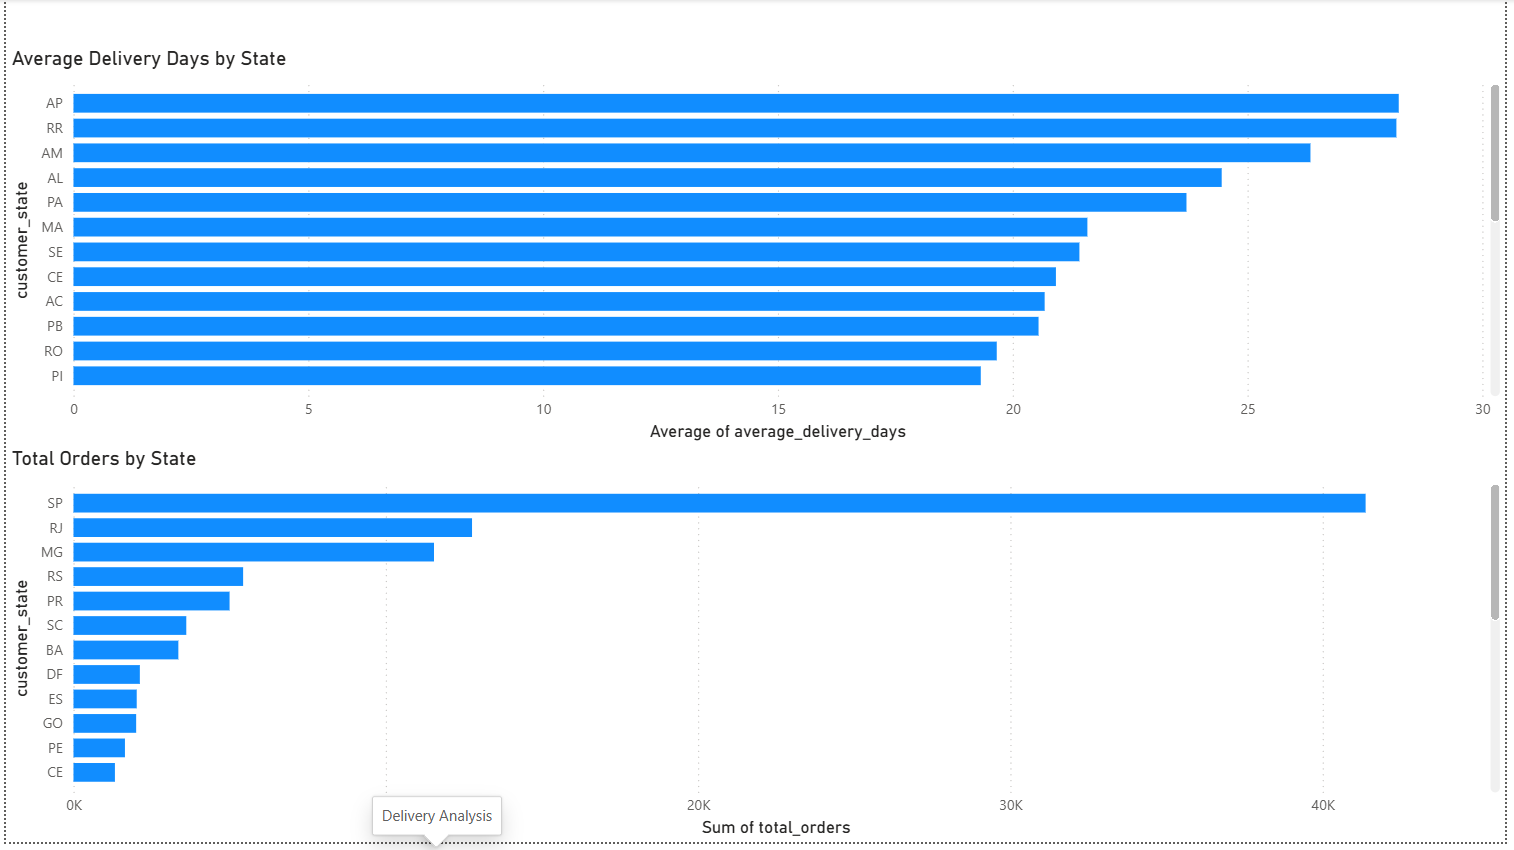

The dashboard page shown, as its layout file describes it:
{"tool":"powerbi","page":{"name":"Delivery Analysis","canvas":[1280,720],"ordinal":2},"visuals":[{"type":"clusteredBarChart","title":"Average Delivery Days by State","fields":{"Category":["fact_orders.customer_state"],"Y":["fact_orders.Average Delivery Days"]},"box":[0,40.5,1280.4,341.4],"z":0},{"type":"clusteredBarChart","title":"Total Orders by State","fields":{"Category":["delivery_performance.customer_state"],"Y":["Sum(delivery_performance.total_orders)"]},"box":[0,382,1280.4,338.2],"z":1000}]}

Visuals, with their boxes on the page's 1280x720 design canvas (x1, y1, x2, y2). These are canvas units, not pixel positions in the 1514x850 screenshot, which may show the page scaled, cropped or inside an application window:
"Average Delivery Days by State" clusteredBarChart: left=0, top=40, right=1280, bottom=382
"Total Orders by State" clusteredBarChart: left=0, top=382, right=1280, bottom=720
